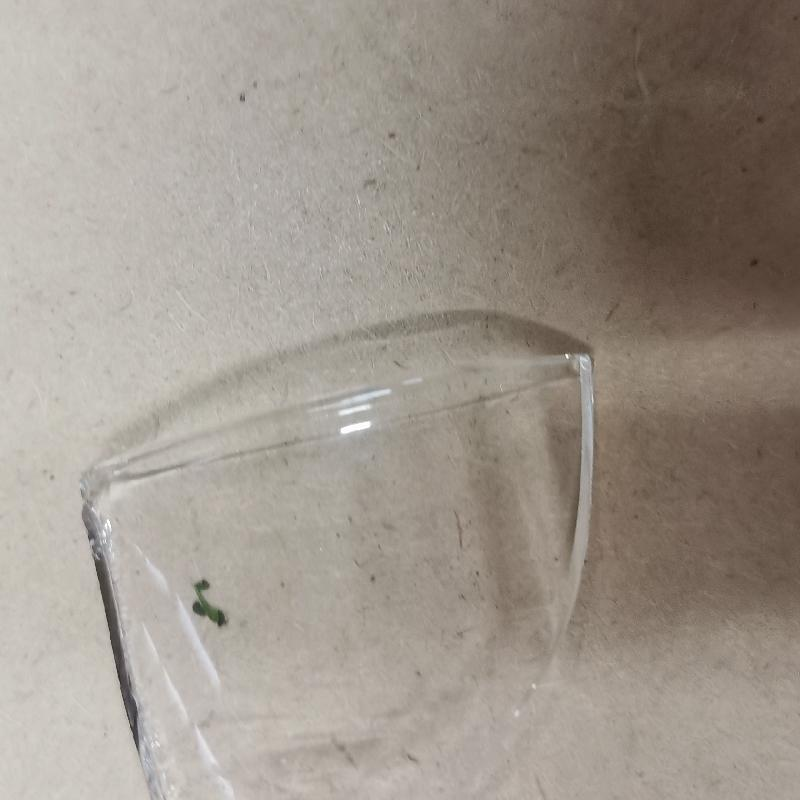glass: (75, 349, 598, 799)
